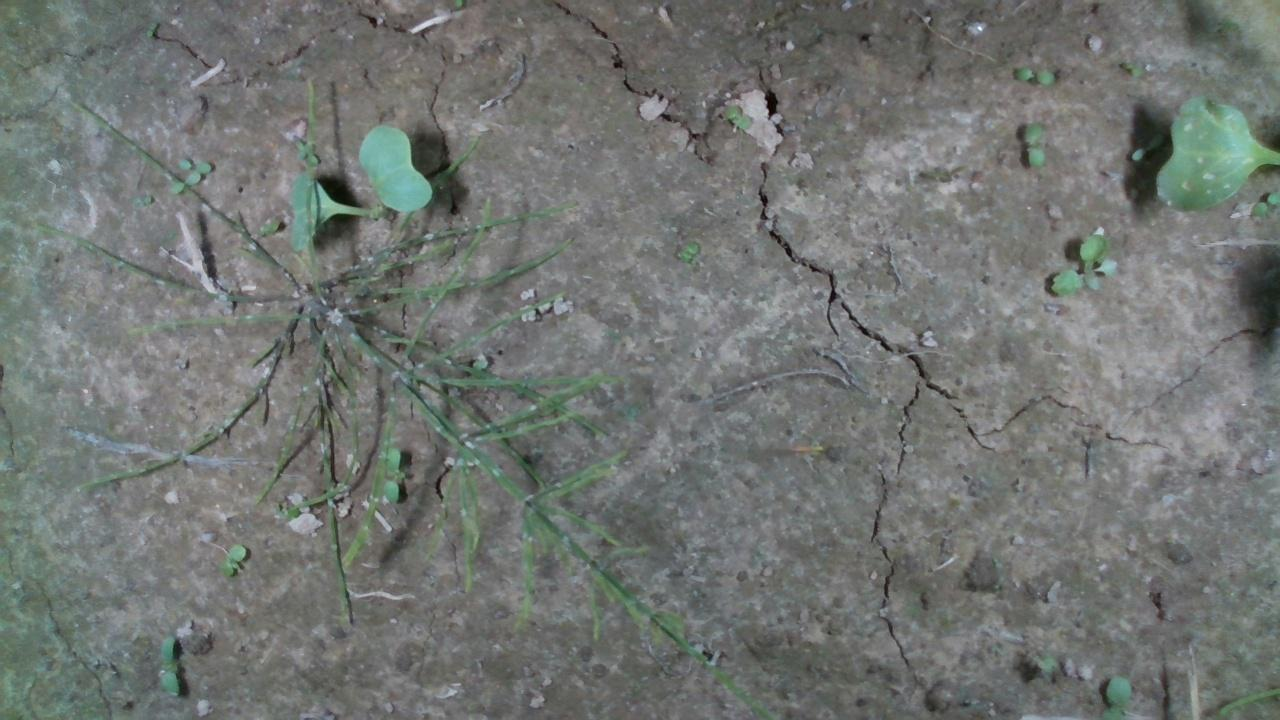weed: (1048, 230, 1120, 297), (157, 632, 180, 698), (1020, 120, 1046, 169), (1010, 65, 1054, 86), (221, 541, 246, 577), (720, 102, 752, 129), (676, 239, 699, 264), (1121, 57, 1144, 79)
